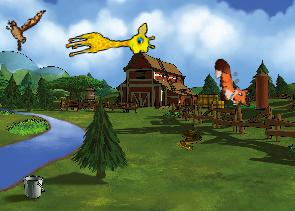eagle: (0, 1, 46, 55)
fox: (212, 55, 254, 111)
giraffe: (63, 21, 157, 68)
